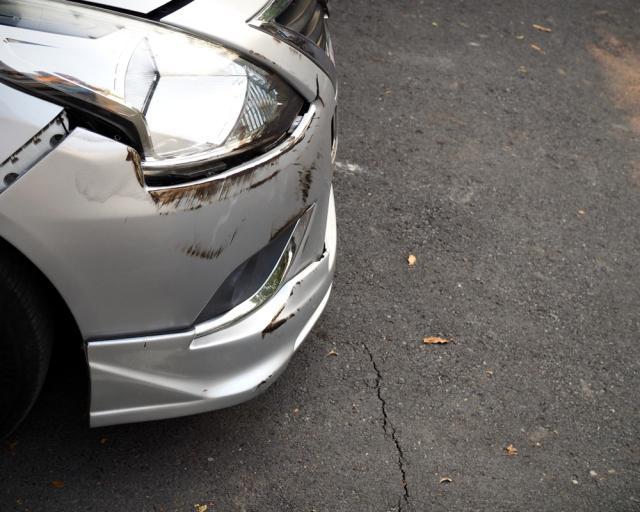crack: (309, 70, 327, 109)
scratch: (68, 108, 327, 260), (259, 269, 321, 340)
